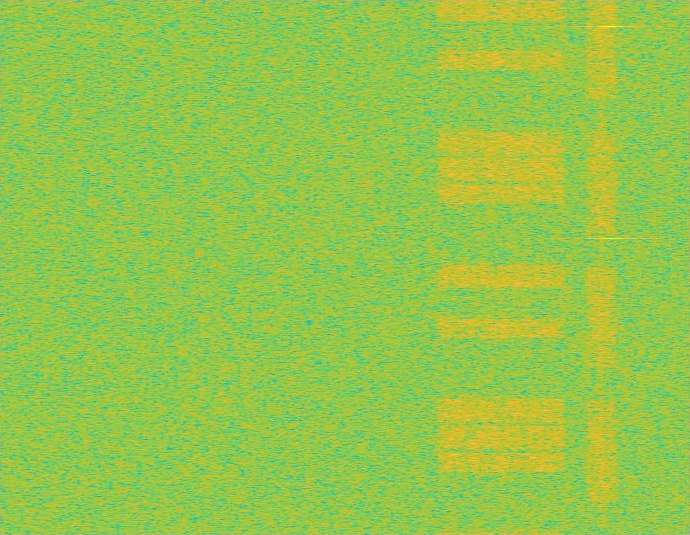5G: (584, 0, 619, 534)
DSSS: (599, 0, 604, 534)
LTE: (432, 0, 570, 534)
Radar: (605, 0, 618, 534)
